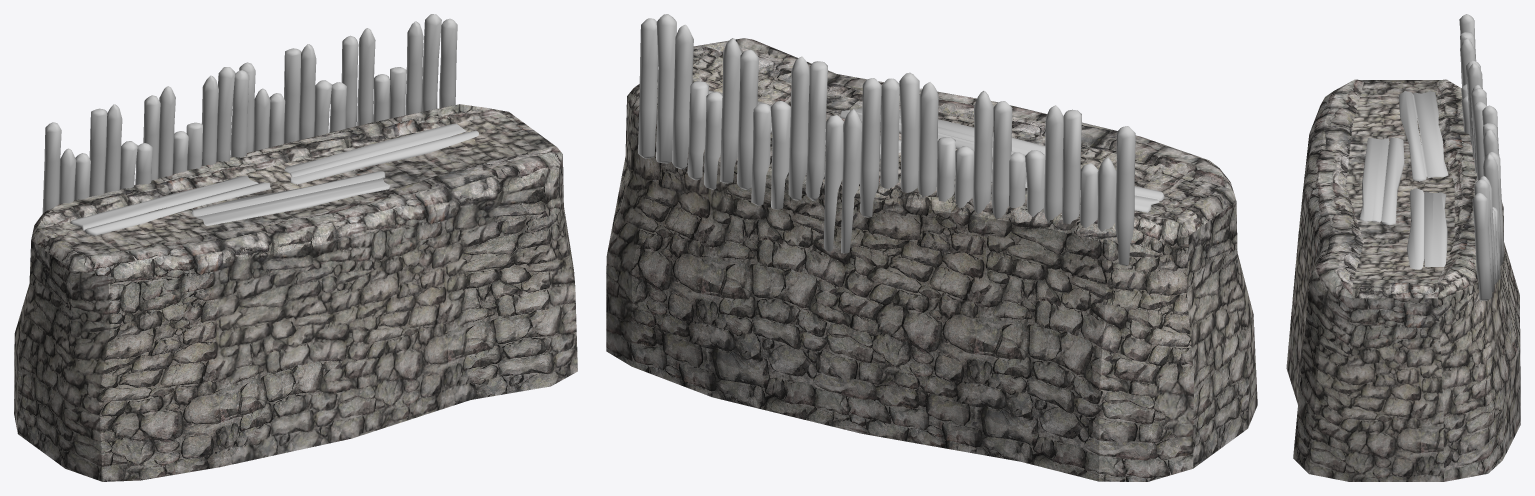
Rendered from StoneWall_1.fbx.
3 renders of one model, left to right at view 1: azimuth 30°, elevation 25°; view 2: azimuth 150°, elevation 25°; view 3: azimuth 270°, elevation 25°, orthographic. The views are drawn at different scales.
Visible parts, largest first — view 1: Stone, Wood; view 2: Stone, Wood; view 3: Stone, Wood.
Boxes of the visible parts, bbox=[...] form: Stone: bbox=[14, 104, 577, 481]; Wood: bbox=[42, 14, 478, 235]; Stone: bbox=[606, 38, 1257, 481]; Wood: bbox=[638, 14, 1164, 265]; Stone: bbox=[1286, 79, 1520, 481]; Wood: bbox=[1359, 14, 1504, 300].
Bounding box in the file's own units: 1417 × 809 × 629.
